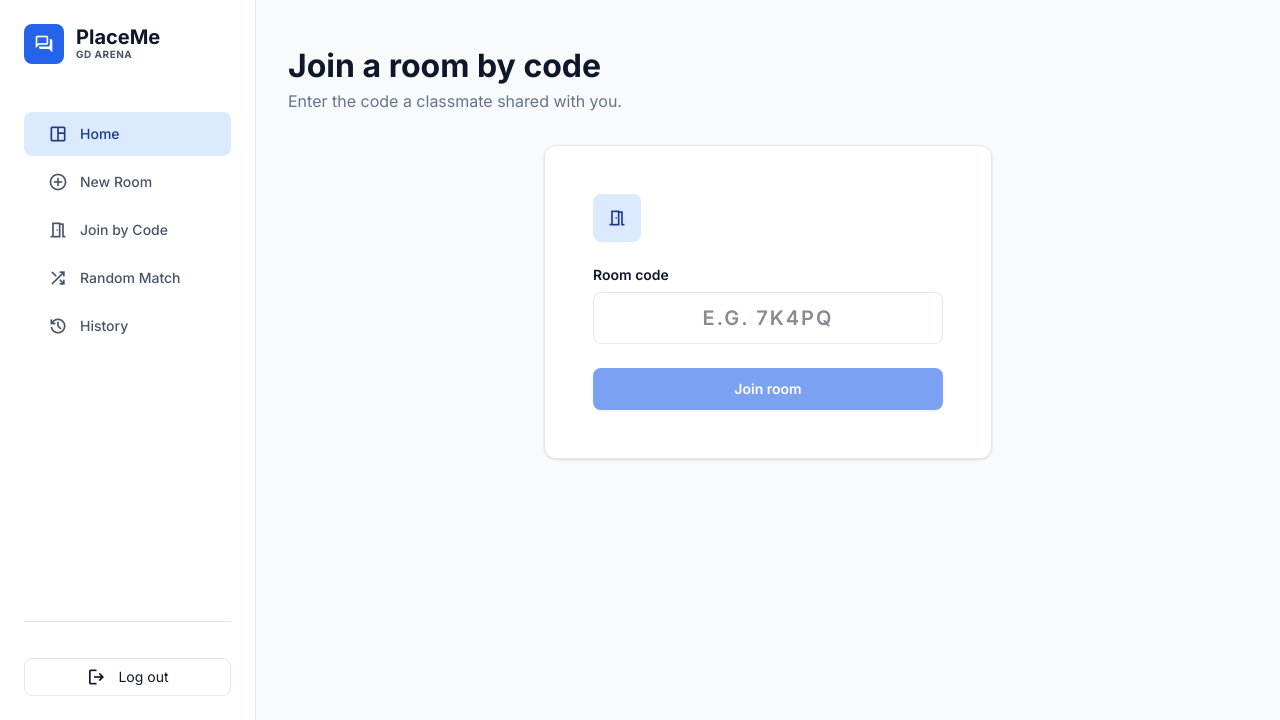
Test case: JoinRoomPage button consistency › shows a spinner and busy label while joining
The width and height of the screenshot is (1280, 720).
In the field labelled "Room code": (768, 318) [593,292,943,344], type "7K4PQ"
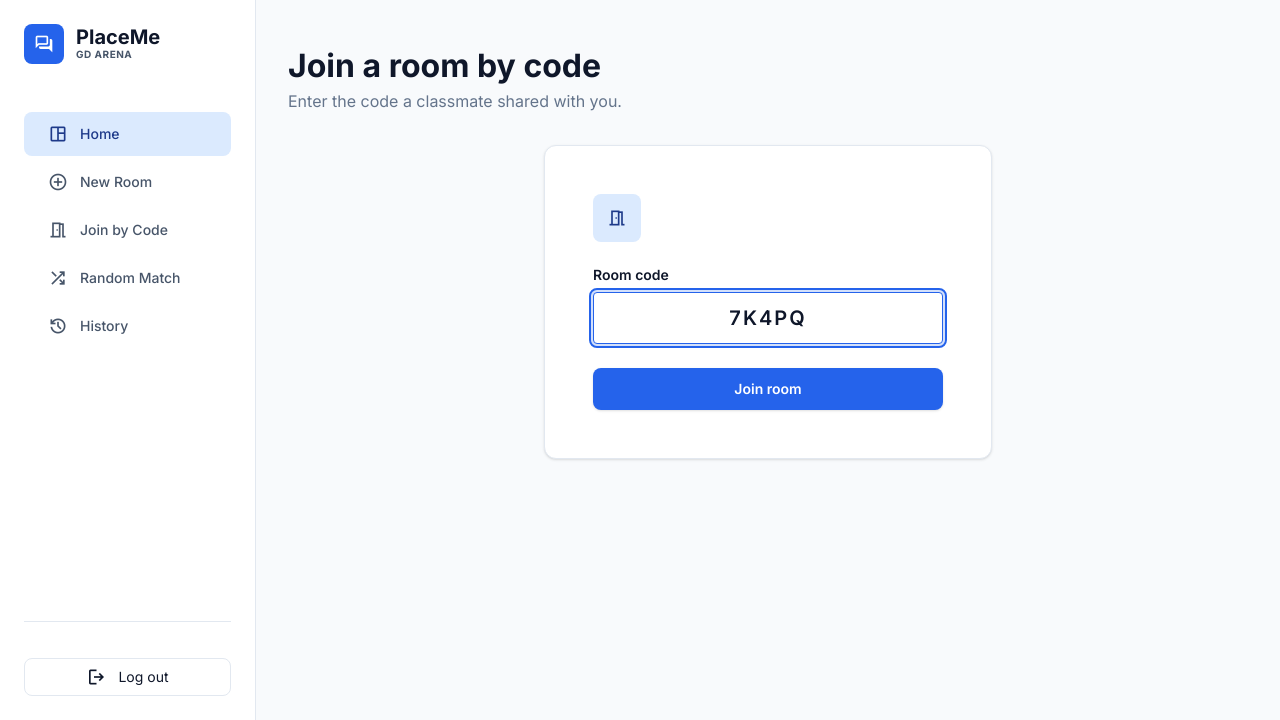
Click the button "Join room": (768, 389) [593,368,943,410]
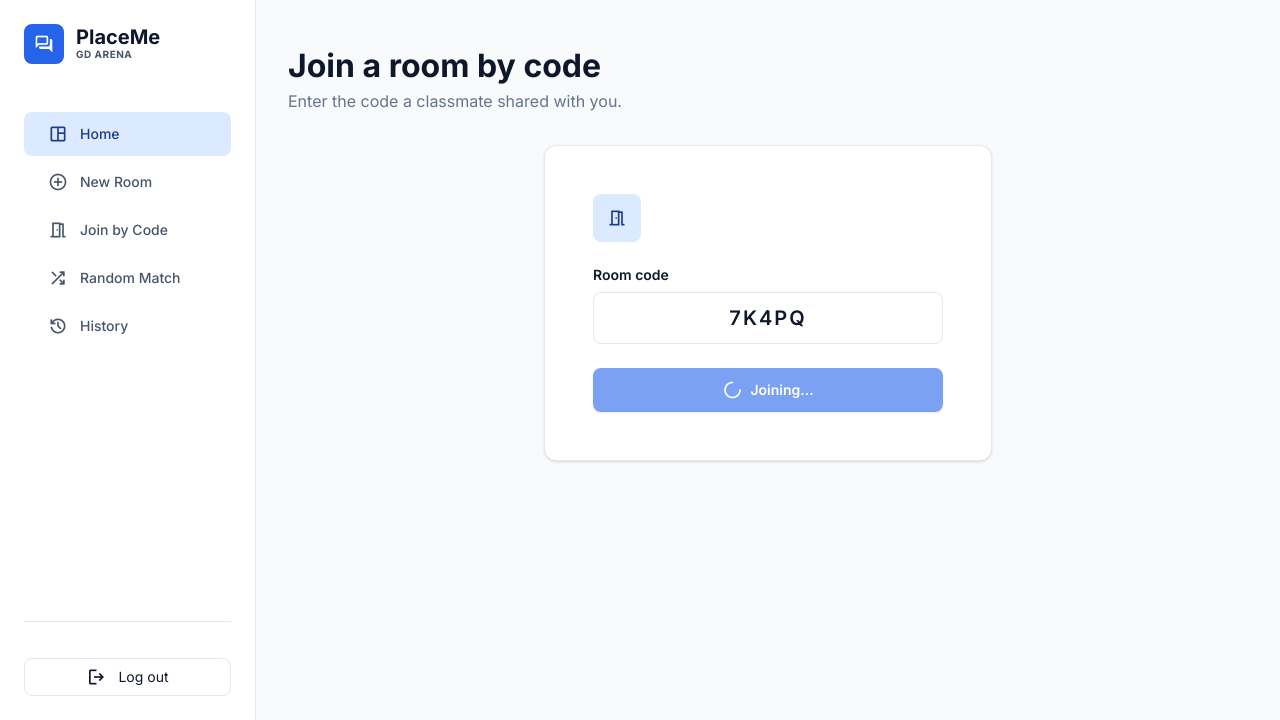
Check: the text "Joining…" is shown, box [722,380,814,400]
Check: the text "progress_activity" below "Room code" is shown, box [722,378,742,402]
